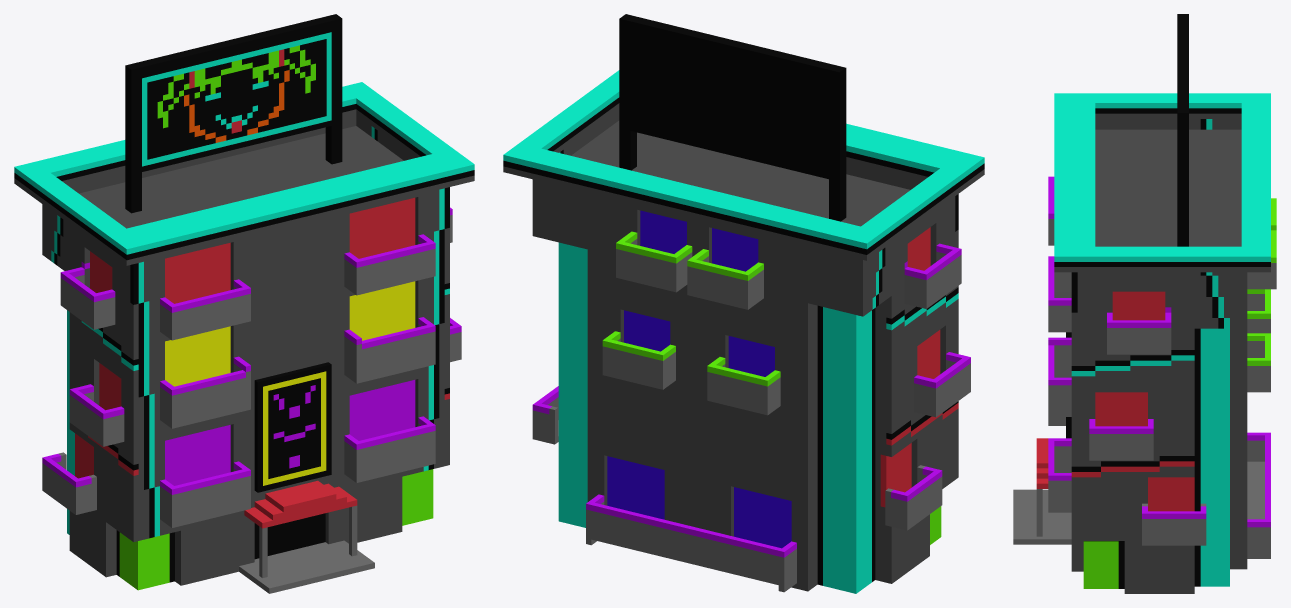
File: casa2.obj
3 views of the same model, side by side, from view 1: azimuth 30°, elevation 25°; view 2: azimuth 150°, elevation 25°; view 3: azimuth 270°, elevation 25° (orthographic). The views are drawn at different scales.
Size of the model in its own units: 6.8 by 8.6 by 4.5.
1 material, 1 textured.
